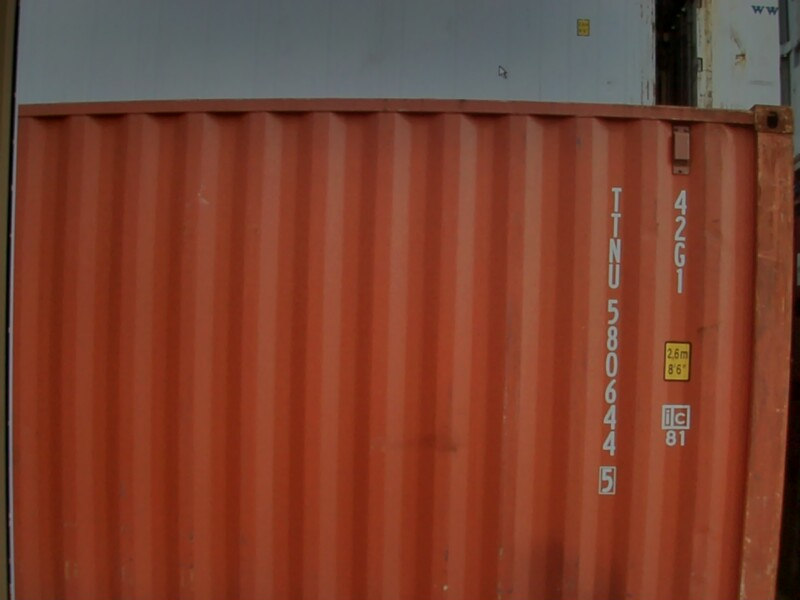container_no_door: (35, 103, 682, 600)
